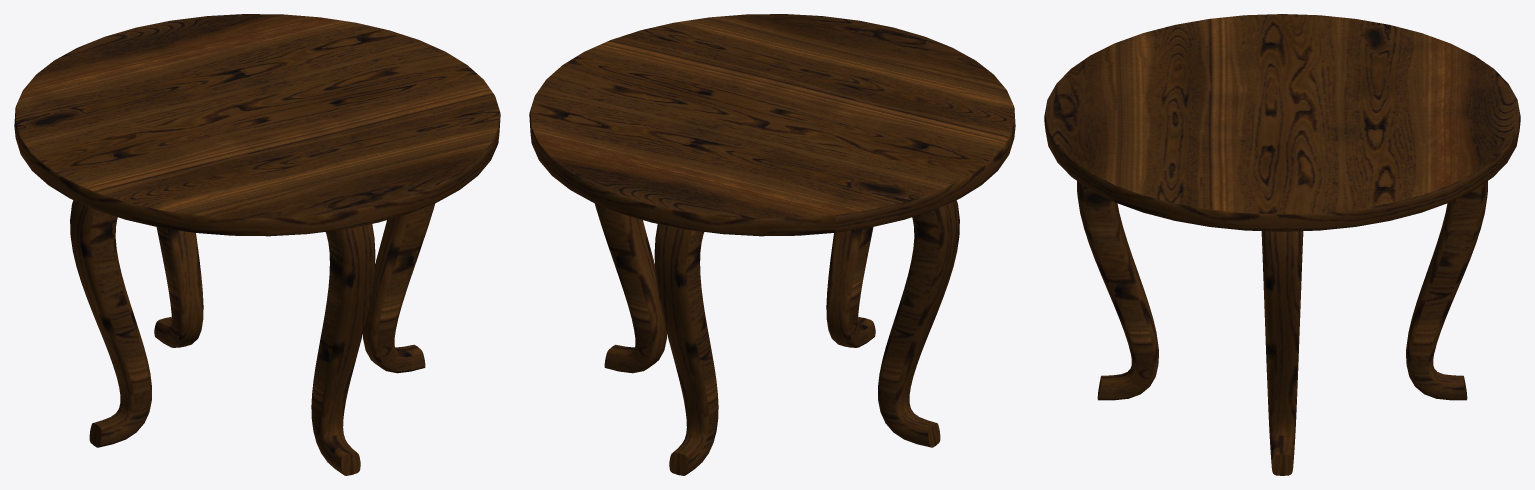
3 renders of one model, left to right at view 1: azimuth 30°, elevation 25°; view 2: azimuth 150°, elevation 25°; view 3: azimuth 270°, elevation 25°, orthographic. The views are drawn at different scales.
Visible parts, largest first — view 1: Cylinder.007; view 2: Cylinder.007; view 3: Cylinder.007.
Boxes of the visible parts, x1,y1,x2,y2 form: Cylinder.007: [14, 14, 500, 475]; Cylinder.007: [529, 14, 1015, 475]; Cylinder.007: [1044, 14, 1520, 475].
Bounding box in the file's own units: 26988 × 17756 × 26988.
1 material, 1 textured.
